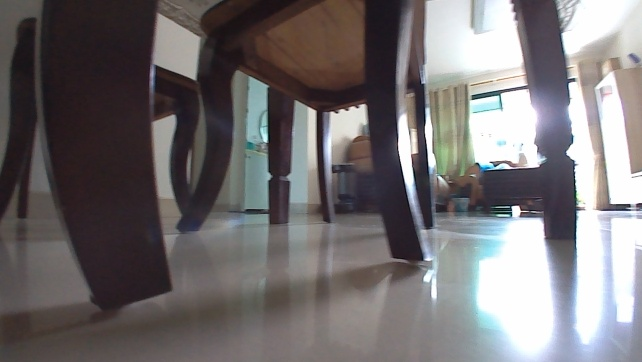dining_table1: (0, 0, 591, 320)
